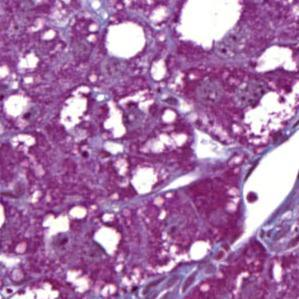steatosis: (103, 22, 147, 59)
